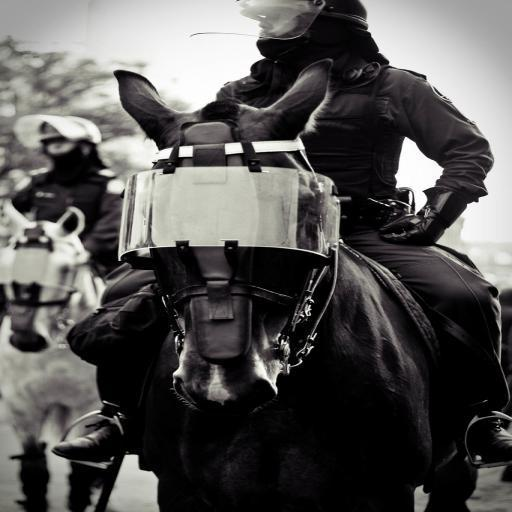horse: (98, 59, 482, 512), (0, 200, 113, 511)
